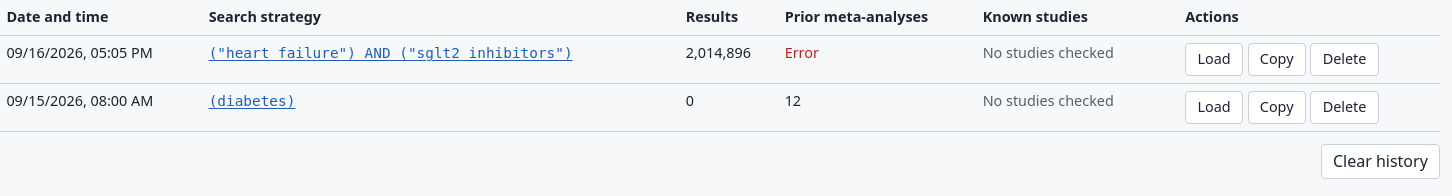
Test: HistoryTable (contracts/ui.md) › Copy writes the query and shows Copied
Click the button "Copy" in the row of "09/15/2026, 08:00 AM".
click(1277, 108)  # box left=1248, top=91, right=1306, bottom=124
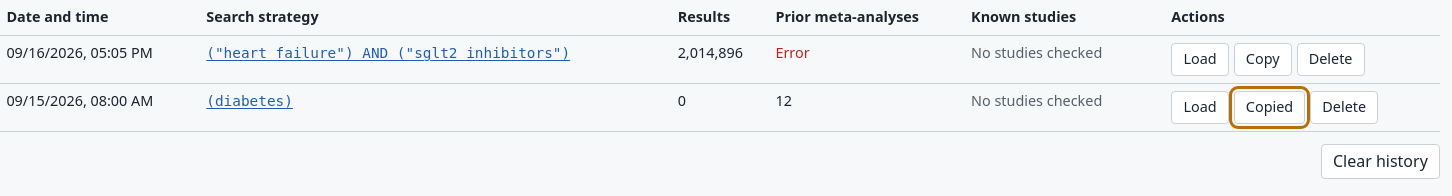
Check: the button "Copied" is shown, box left=1234, top=91, right=1305, bottom=124
